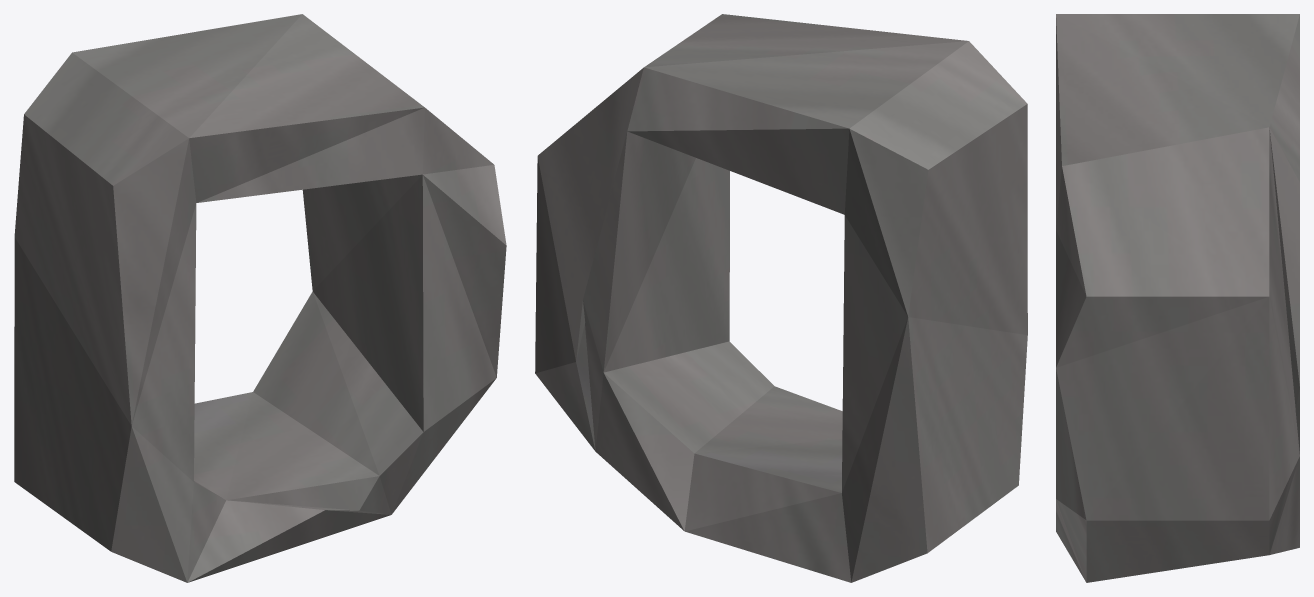
The picture shows the model from 3 angles, left to right: view 1: azimuth 30°, elevation 25°; view 2: azimuth 150°, elevation 25°; view 3: azimuth 270°, elevation 25°; orthographic projection. The views are drawn at different scales.
Visible parts, largest first — view 1: D; view 2: D; view 3: D.
Part boxes in pixels (x1,y1,x2,y2): D: [14, 14, 506, 582]; D: [535, 14, 1027, 582]; D: [1056, 14, 1299, 582].
Size of the model in its own units: 57.58 by 62.79 by 30.
Materials: 1 (1 with a texture image).
